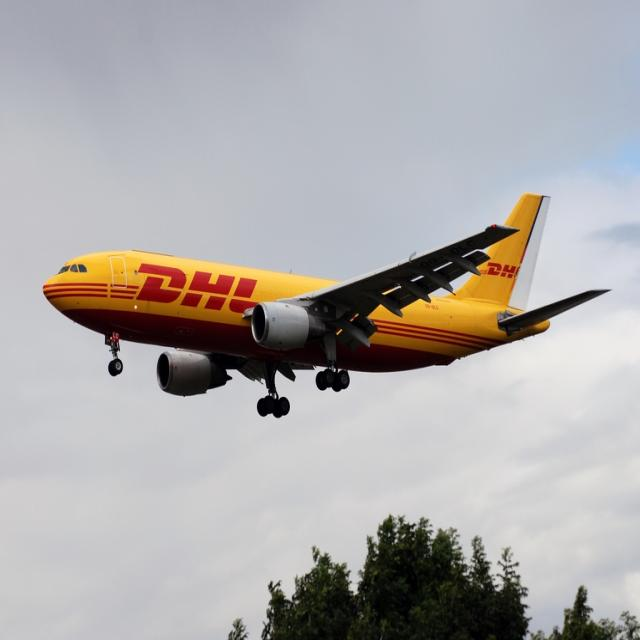dhl: (106, 256, 265, 325), (477, 260, 521, 283)
